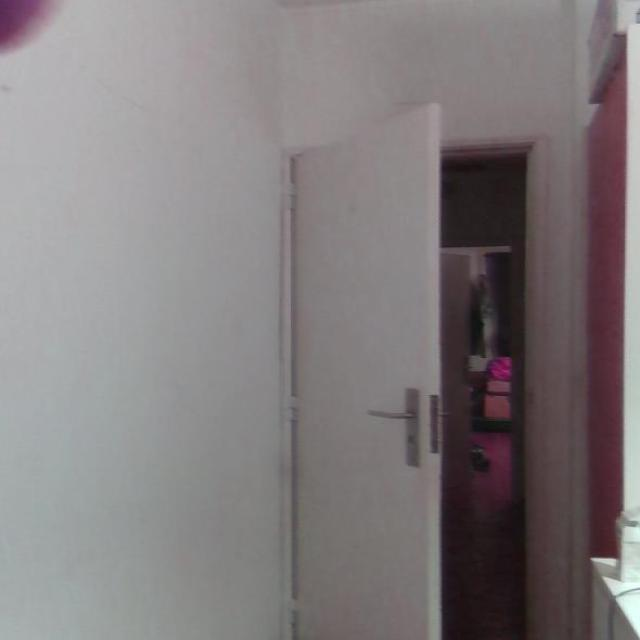door: (288, 100, 443, 638)
